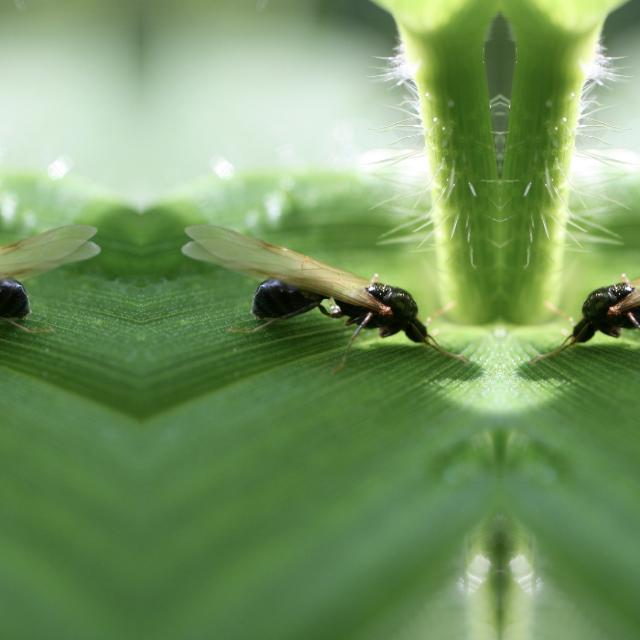Tetramorium: (242, 258, 432, 364), (566, 258, 640, 364)
